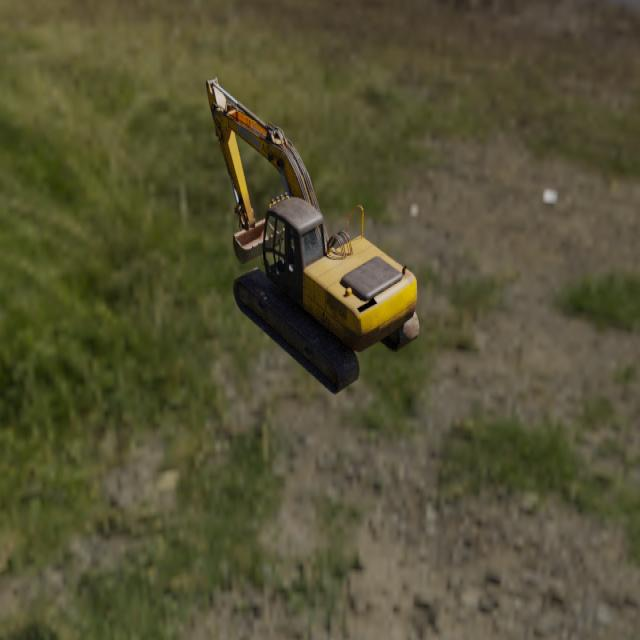excavator: (205, 76, 419, 395)
